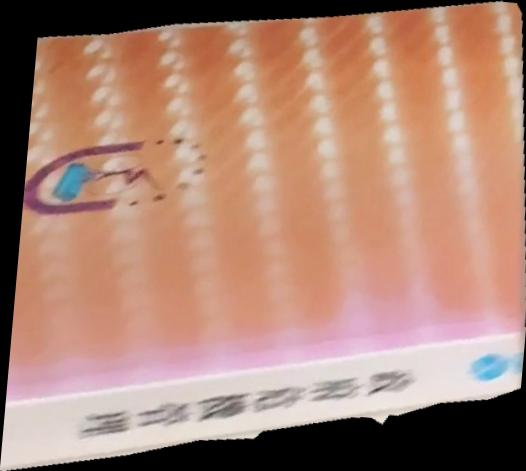flat: (1, 1, 526, 471)
